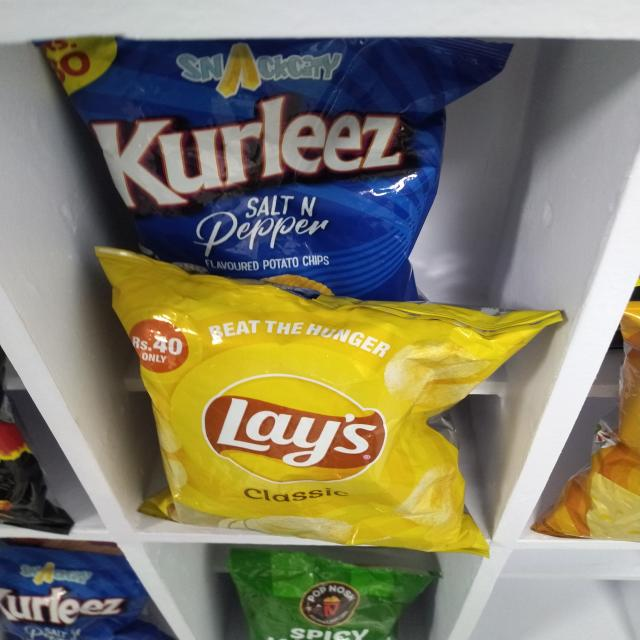Plastic: (122, 301, 507, 548), (121, 48, 402, 245), (235, 552, 420, 640), (0, 546, 146, 640)
